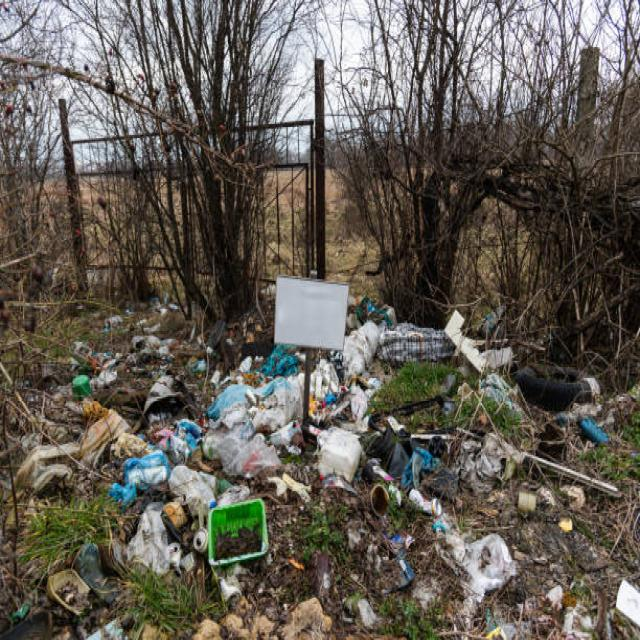plastic: (131, 392, 366, 483)
